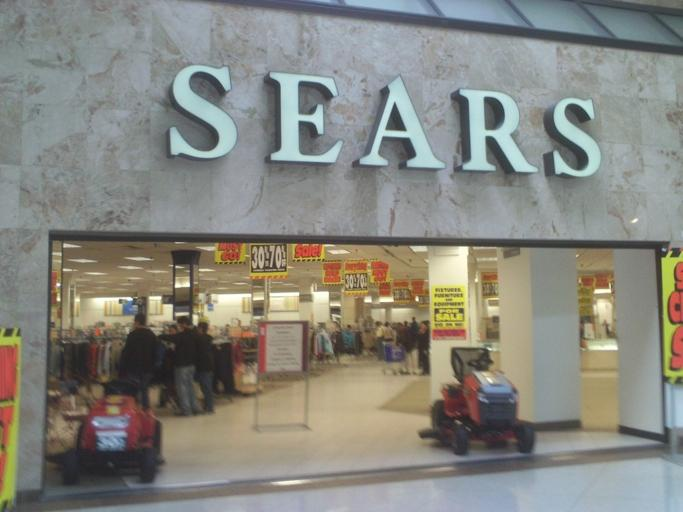non-vehicle: (418, 345, 534, 453), (73, 371, 164, 483)
